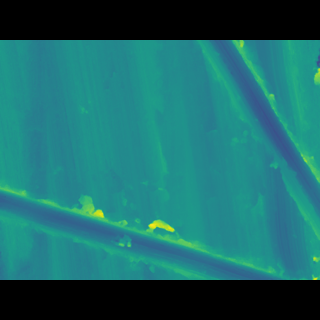Loch: (0, 179, 296, 253), (190, 67, 320, 220)
